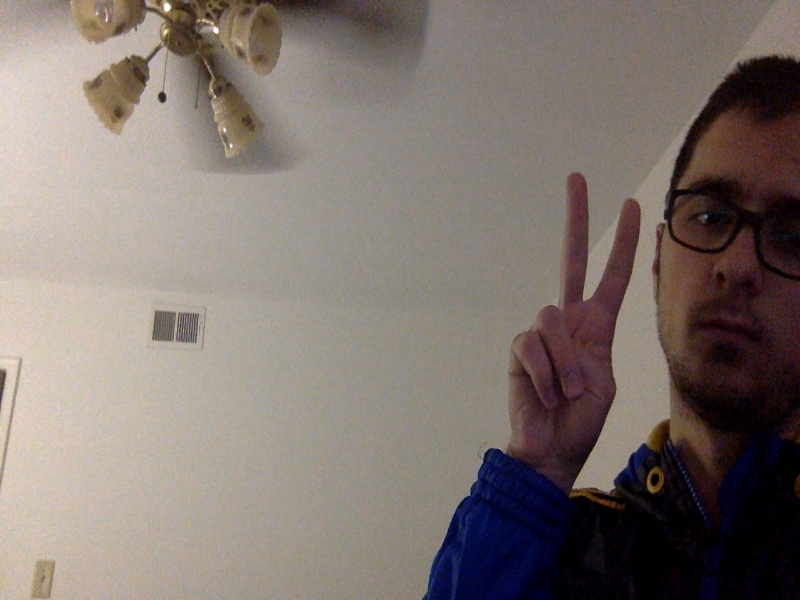2-hand: (507, 173, 643, 461)
